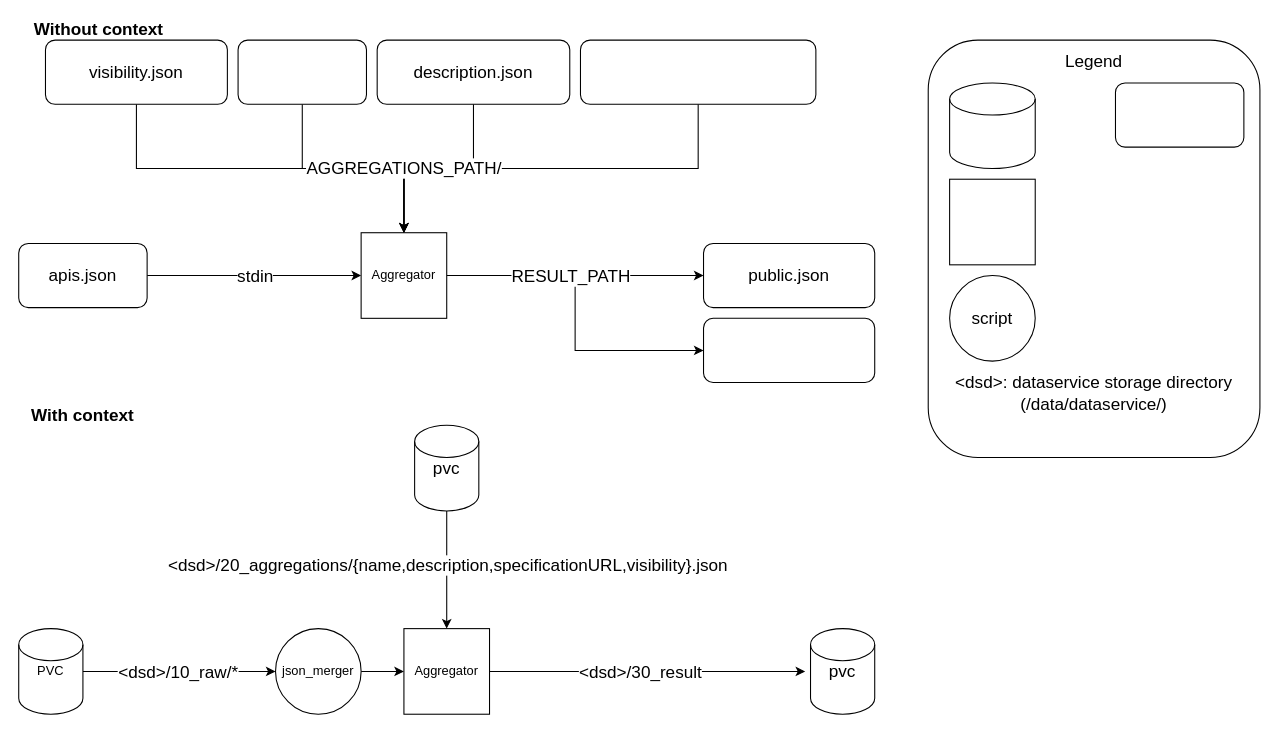
This 1279x733 diagram has some shape labels left out. Here are the shapes that lost their labels. From the top down, the box of each, then its label:
(237, 39, 366, 104): name.json
(579, 39, 816, 104): specificationURL.json
(949, 82, 1035, 169): storage
(1114, 82, 1244, 147): file
(949, 178, 1035, 265): service
(702, 317, 875, 383): protected.json
